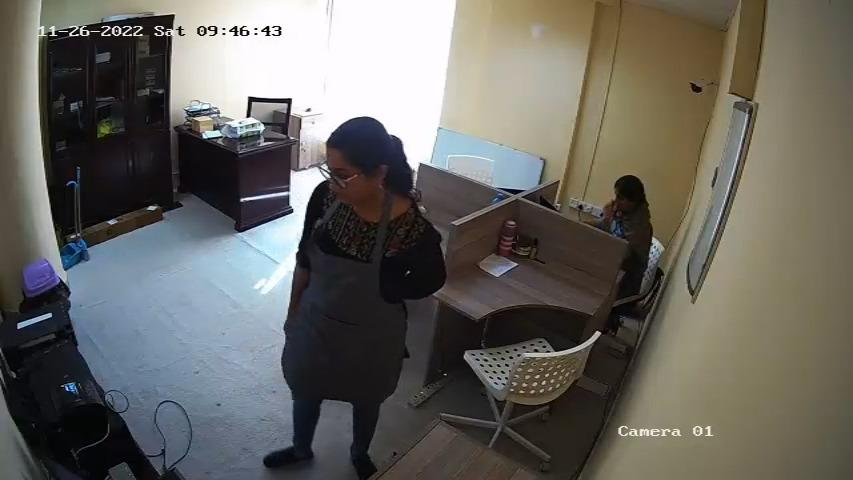apron: (295, 206, 401, 383)
